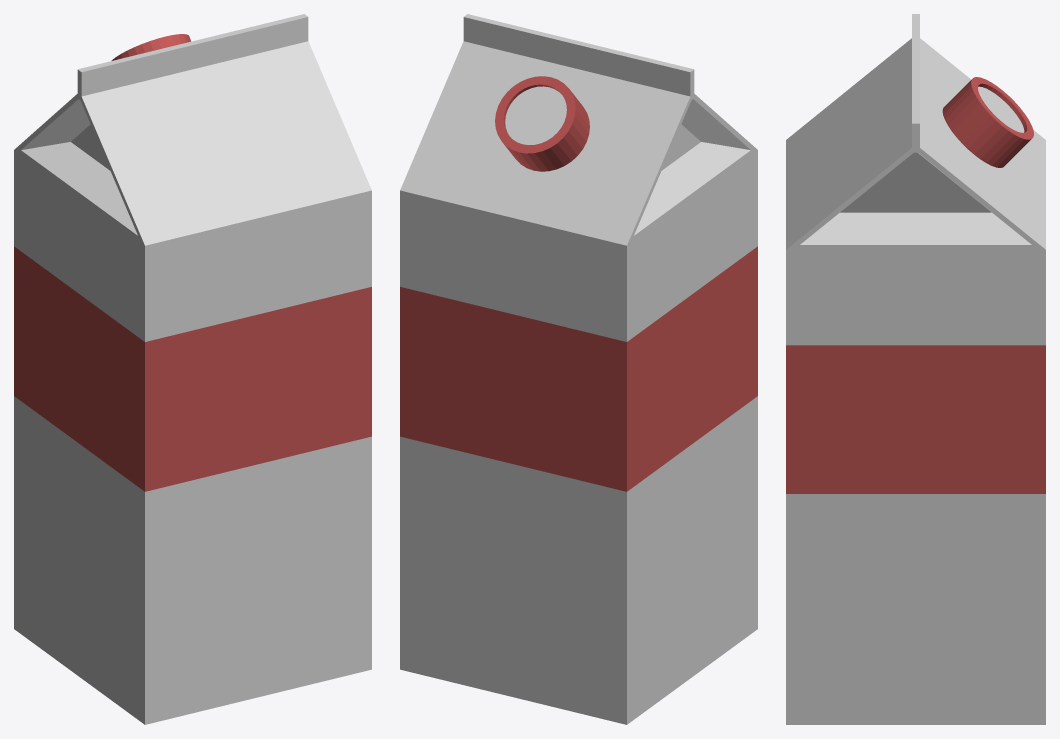
File: karnemelk.fbx
3 renders of one model, left to right at view 1: azimuth 30°, elevation 25°; view 2: azimuth 150°, elevation 25°; view 3: azimuth 270°, elevation 25°, orthographic.
Parts seen in each view (by area): view 1: Carton; view 2: Carton; view 3: Carton.
Boxes of the visible parts, box(x1,y1,x2,y2) form: Carton: box(14, 14, 371, 724); Carton: box(400, 14, 757, 724); Carton: box(786, 14, 1045, 724).
Size of the model in its own units: 200 by 511 by 200.
